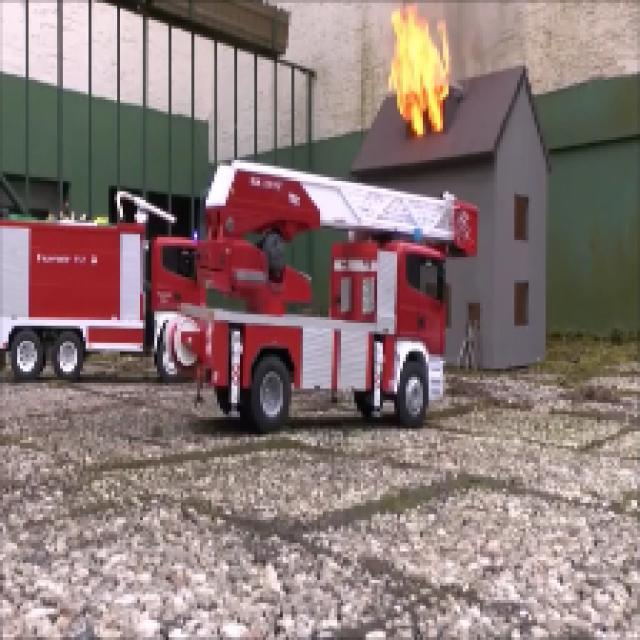Fire: (386, 4, 452, 141)
